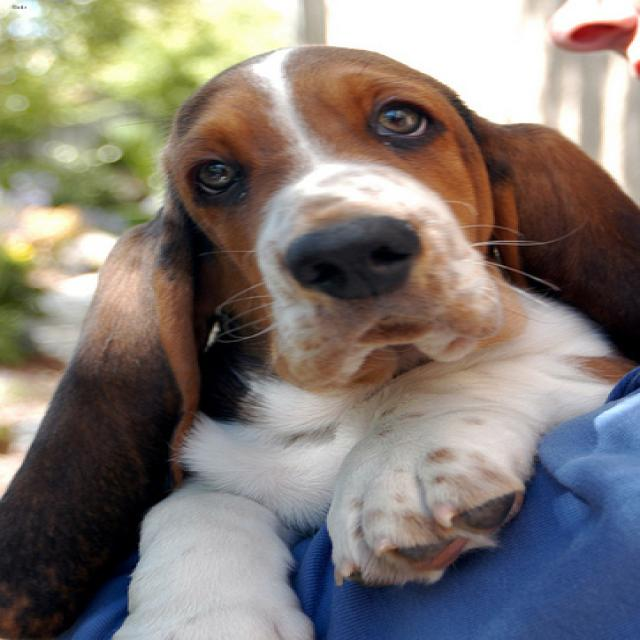dog-basset_hound: (2, 33, 636, 637)
